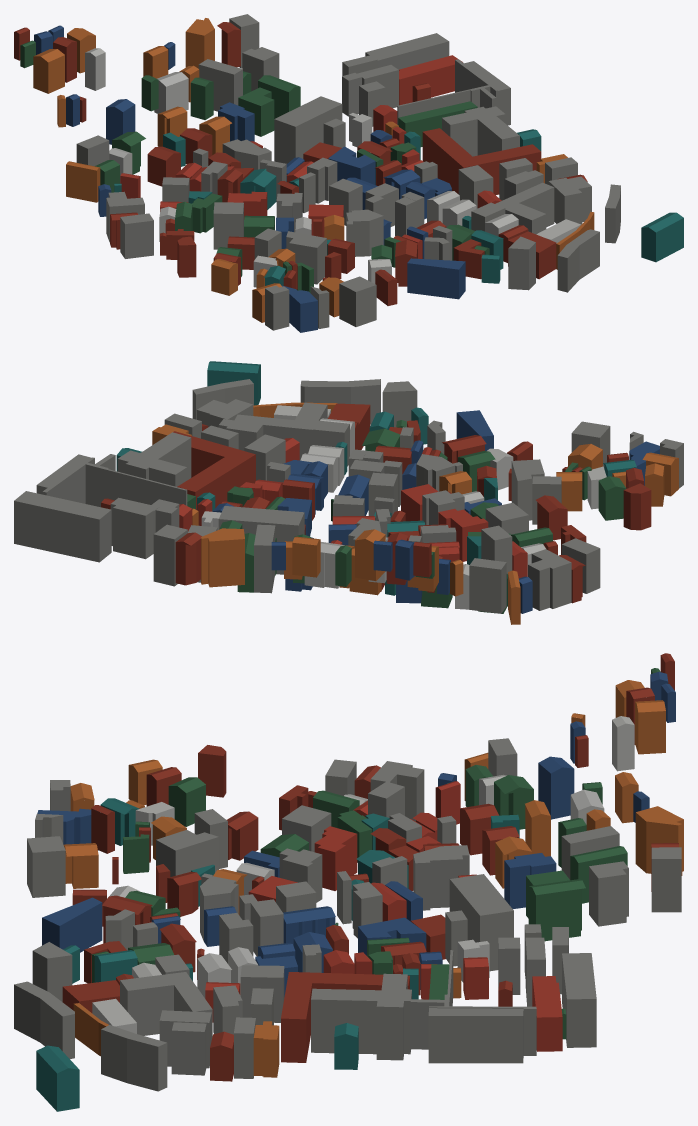
File: near-17-109442-59471.55e83583.glb
The picture shows the model from 3 angles, top to bottom: view 1: azimuth 30°, elevation 25°; view 2: azimuth 150°, elevation 25°; view 3: azimuth 270°, elevation 25°; orthographic projection. The views are drawn at different scales.
Bounding box in the file's own units: 307 × 96.03 × 308.
